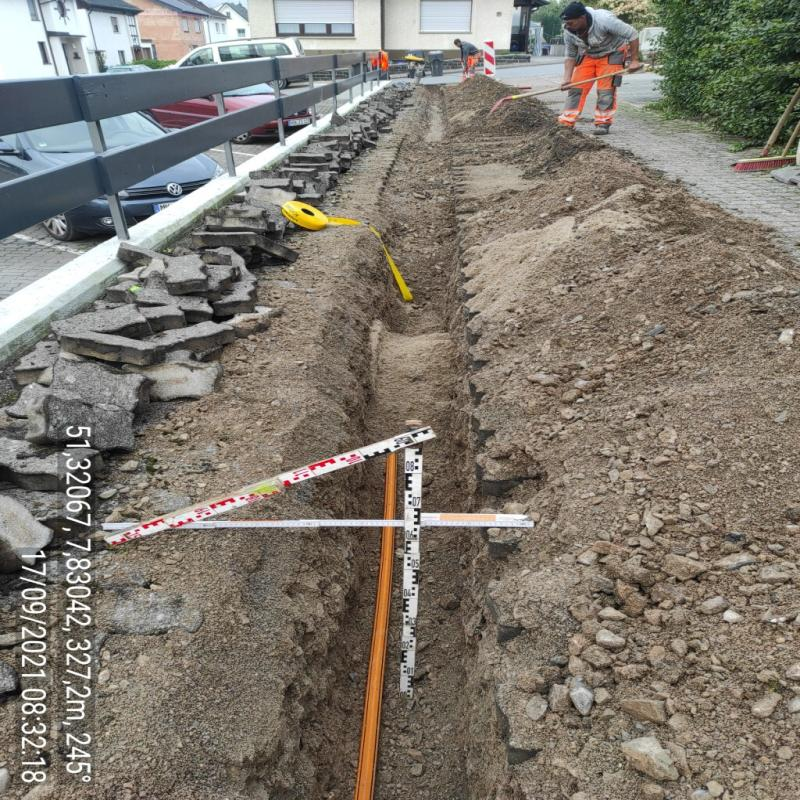Orang-Speednetrohrchen: (355, 455, 395, 800)
